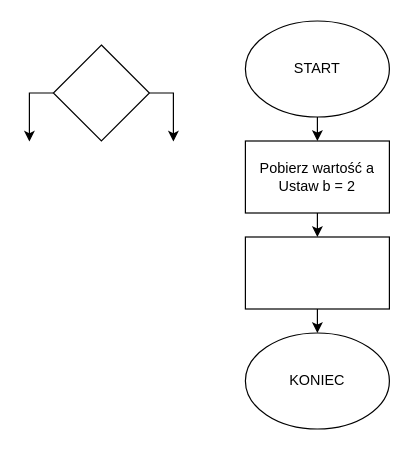
Some shapes in this 410 by 450 pixel diagram are drawn without their labels. Each missing label, with the centre of its shape:
"b < 3" belongs at point (100, 92).
"Wyświetl a + b" belongs at point (316, 272).
